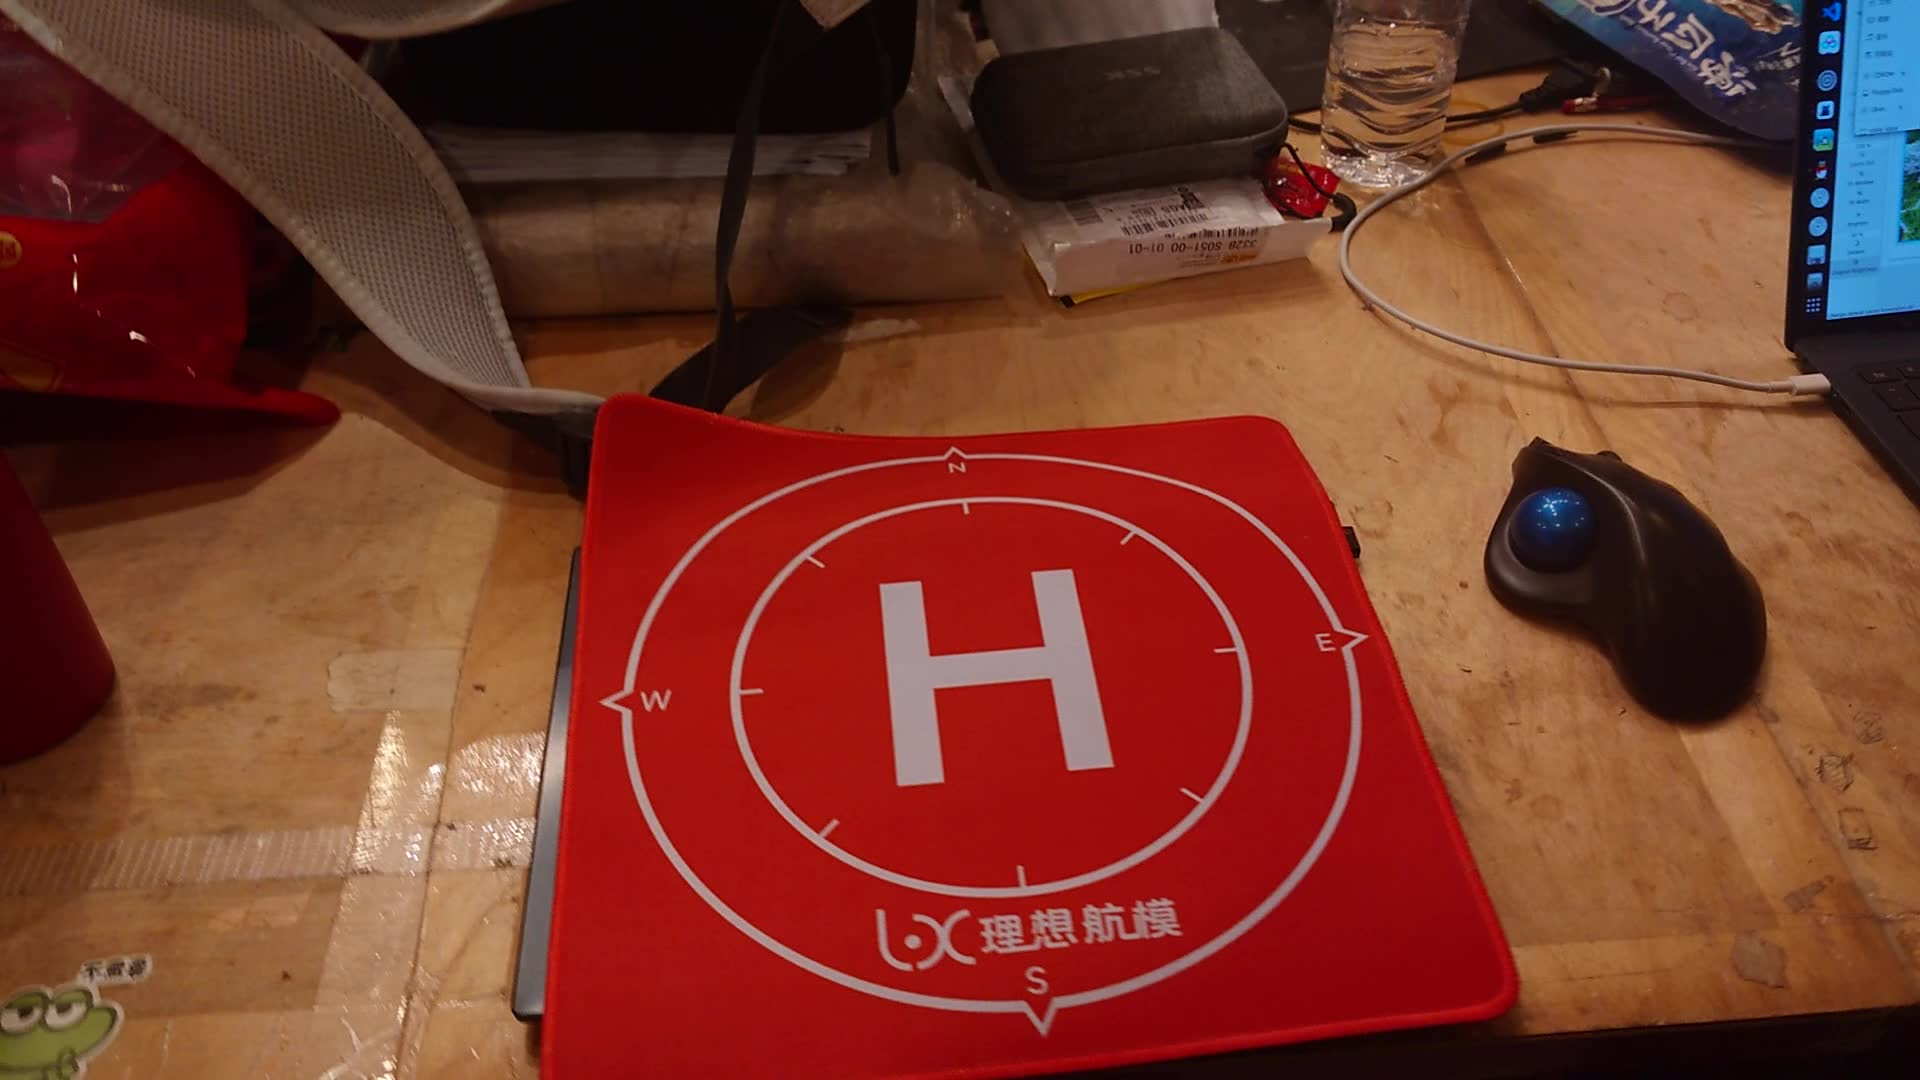H: (878, 567, 1116, 791)
